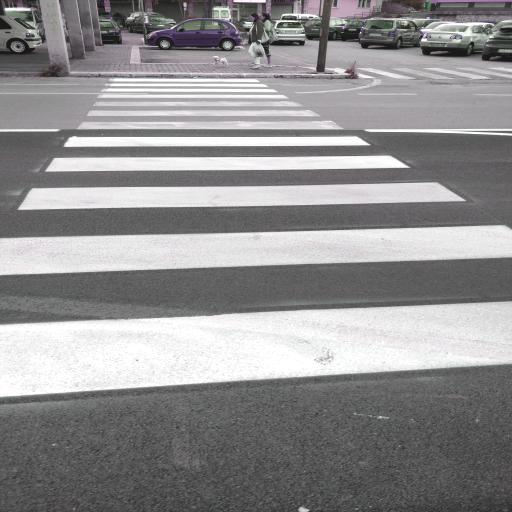crosswalk: (8, 151, 472, 220), (72, 107, 349, 132)
